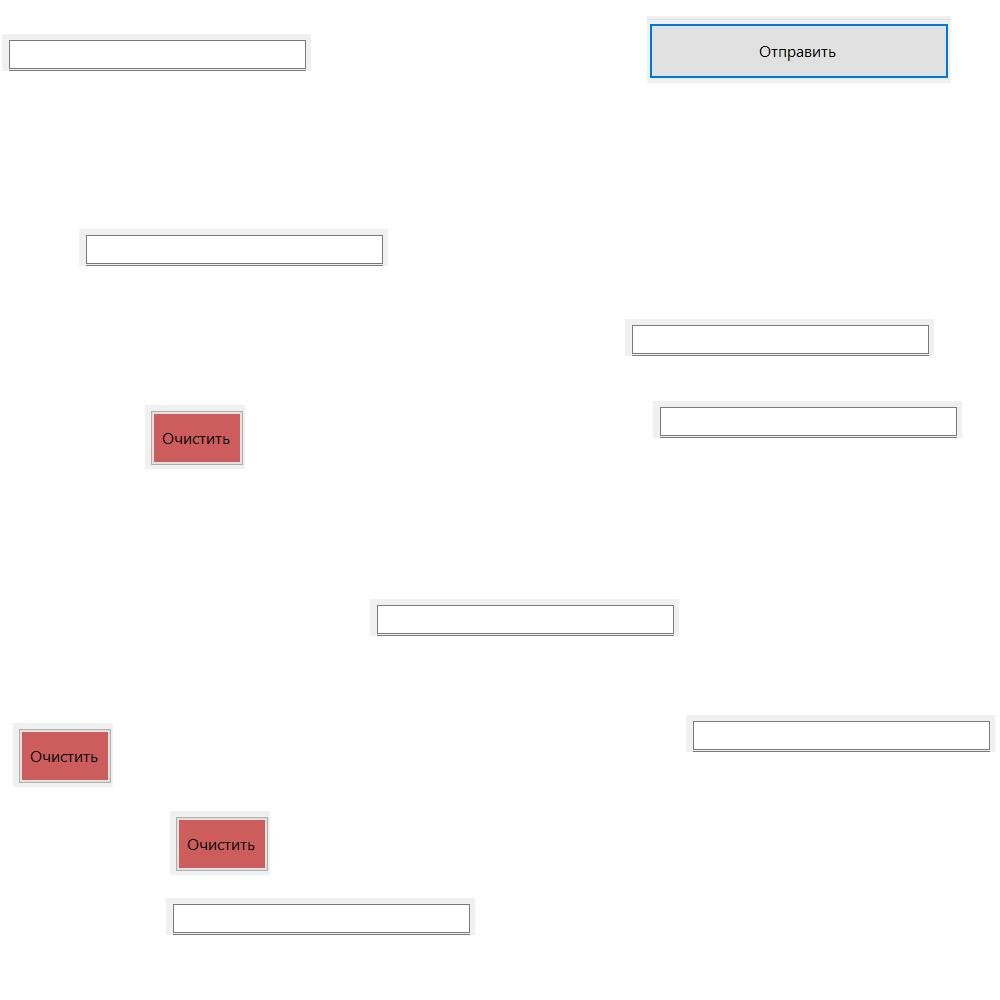Button: (647, 16, 951, 83), (13, 723, 113, 787), (170, 811, 270, 875), (145, 405, 245, 469)
EditText-: (653, 401, 962, 438), (166, 898, 475, 935), (79, 229, 388, 266), (625, 319, 934, 356), (686, 715, 995, 752), (2, 34, 311, 71), (370, 599, 679, 636)
